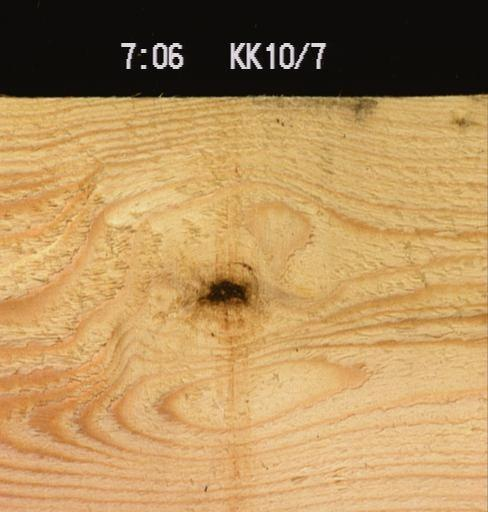small_knot: (450, 113, 473, 128)
